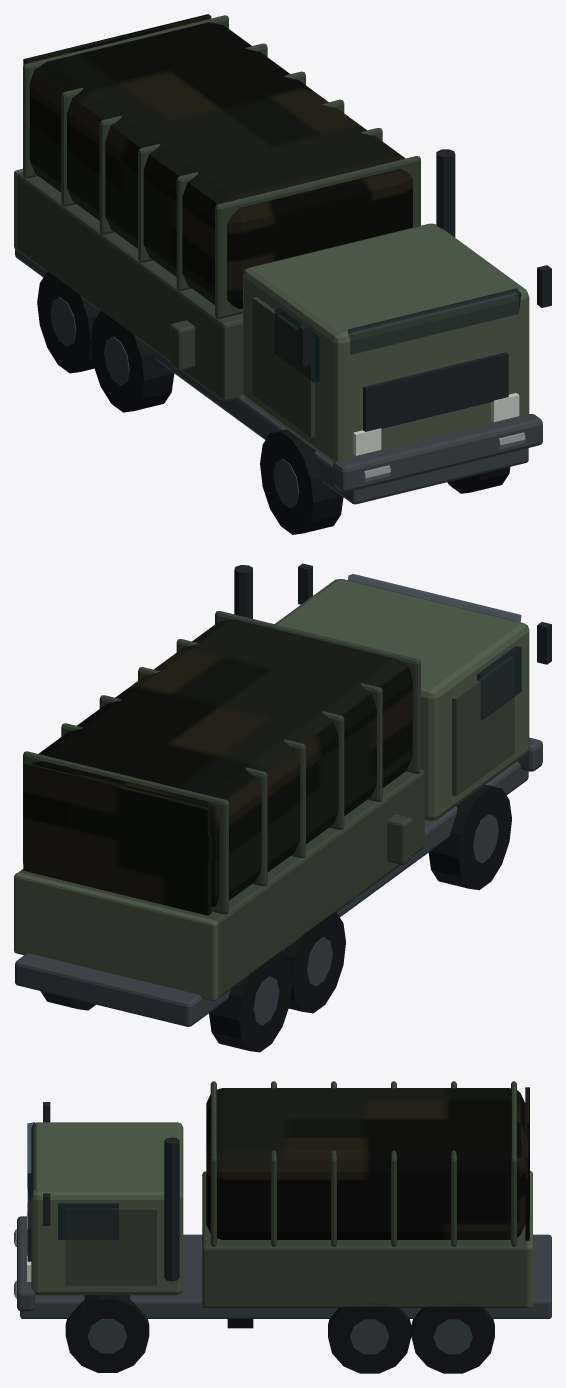
File: veh_truck.glb
3 views of the same model, one above another, from view 1: azimuth 30°, elevation 25°; view 2: azimuth 150°, elevation 25°; view 3: azimuth 270°, elevation 25° (orthographic). The views are drawn at different scales.
Visible parts, largest first — view 1: VEH_TRUCK; view 2: VEH_TRUCK; view 3: VEH_TRUCK.
Part boxes in pixels (x1,y1,x2,y2): VEH_TRUCK: (14, 14, 551, 534); VEH_TRUCK: (14, 563, 551, 1052); VEH_TRUCK: (14, 1081, 551, 1373).
Size of the model in its own units: 2.96 by 3.39 by 7.08.
9 materials, 1 textured.
